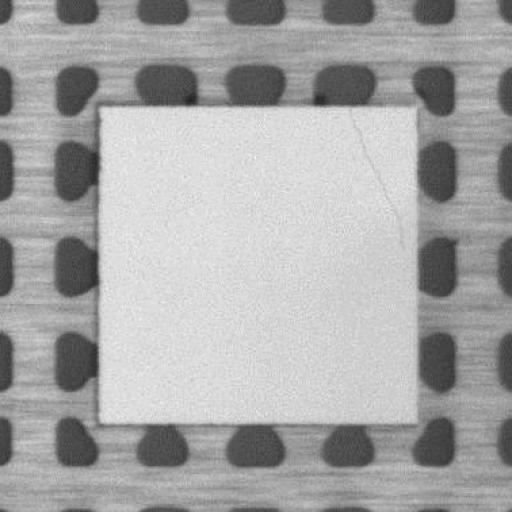DIE_CRACK: (347, 106, 406, 248)
